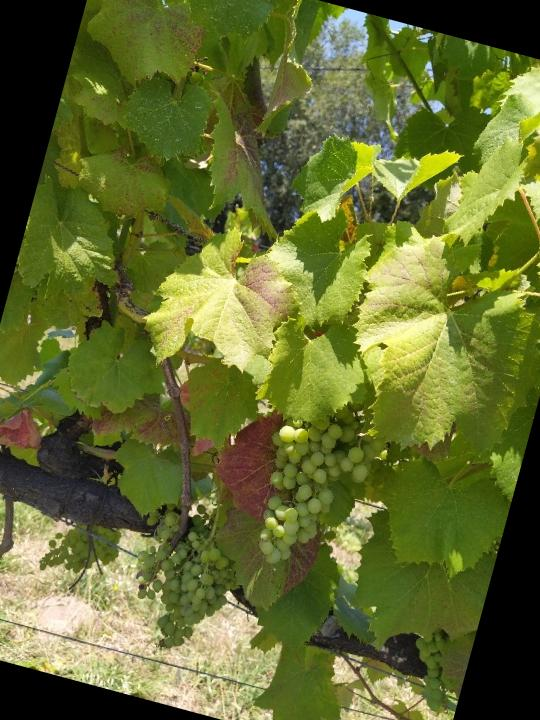grape: (240, 384, 387, 587), (111, 482, 257, 663), (30, 512, 124, 599)
